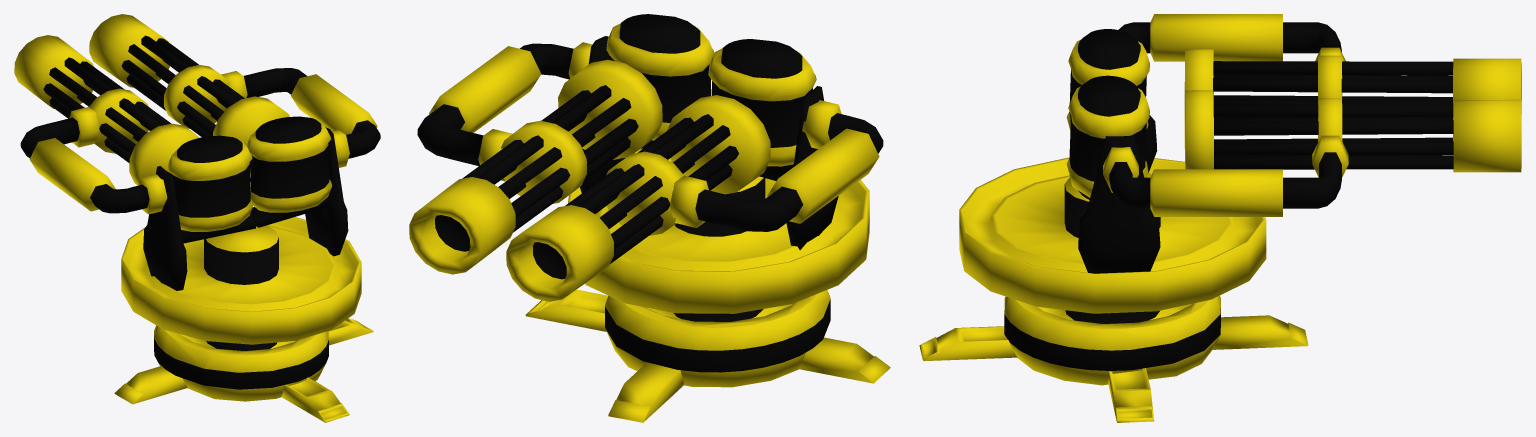
The model's file is Turret3.fbx.
The picture shows the model from 3 angles, left to right: view 1: azimuth 30°, elevation 25°; view 2: azimuth 150°, elevation 25°; view 3: azimuth 270°, elevation 25°; orthographic projection. The views are drawn at different scales.
Visible parts, largest first — view 1: TurretHead, Turret; view 2: TurretHead, Turret; view 3: TurretHead, Turret.
Part boxes in pixels (box(x1,y1,x2,y2)): TurretHead: box(14, 14, 380, 290); Turret: box(114, 217, 373, 422); TurretHead: box(409, 14, 883, 301); Turret: box(525, 148, 890, 422); TurretHead: box(1066, 14, 1521, 273); Turret: box(919, 157, 1308, 422).
Size of the model in its own units: 1269 by 948 by 1842.
